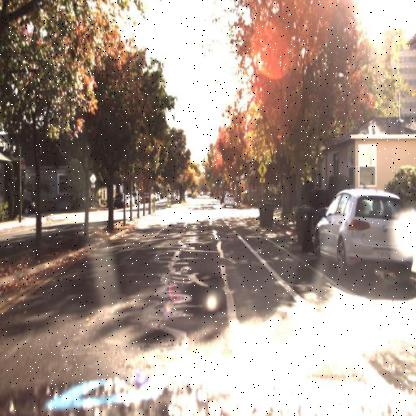car: (302, 186, 415, 288), (19, 194, 36, 219), (221, 196, 238, 214), (114, 193, 124, 208), (127, 194, 135, 206)
trafficLight-Green: (204, 168, 211, 184), (219, 175, 226, 187), (211, 181, 216, 190)
